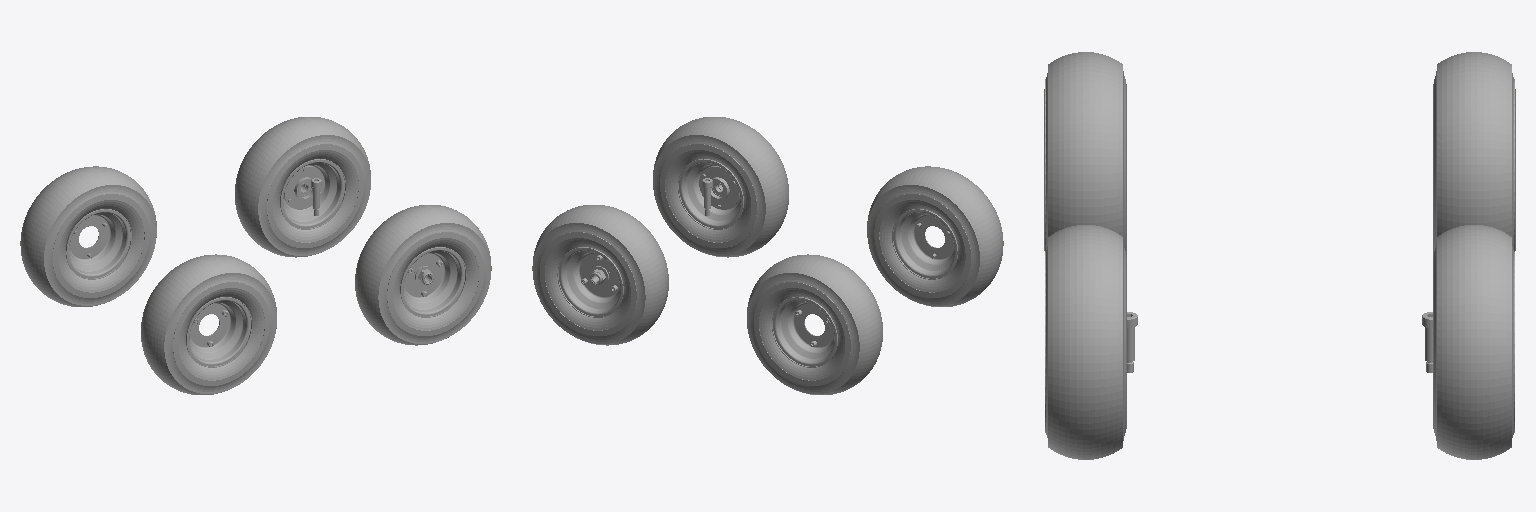
URDF robot description (zebrat):
<?xml version="1.0" encoding="utf-8"?>
<!-- This URDF was automatically created by SolidWorks to URDF Exporter! Originally created by [author] ([email redacted]) 
     Commit Version: 1.6.0-1-g15f4949  Build Version: 1.6.7594.29634
     For more information, please see http://wiki.ros.org/sw_urdf_exporter -->
<robot
  name="zebrat">
  <link
    name="base_link">
    <inertial>
      <origin
        xyz="0.070574 -0.0043486 -0.067094"
        rpy="0 0 0" />
      <mass
        value="35.776" />
      <inertia
        ixx="0.43687"
        ixy="-1.1422E-05"
        ixz="0.00084257"
        iyy="0.44998"
        iyz="4.6829E-06"
        izz="0.69497" />
    </inertial>
    <visual>
      <origin
        xyz="0 0 0"
        rpy="0 0 0" />
      <geometry>
        <mesh
          filename="package://zebrat/meshes/base_link.STL" />
      </geometry>
      <material
        name="">
        <color
          rgba="1 1 1 1" />
      </material>
    </visual>
    <collision>
      <origin
        xyz="0 0 0"
        rpy="0 0 0" />
      <geometry>
        <mesh
          filename="package://zebrat/meshes/base_link.STL" />
      </geometry>
    </collision>
  </link>
  <link
    name="lr_wheel">
    <inertial>
      <origin
        xyz="3.0351E-07 7.0113E-05 5.1237E-07"
        rpy="0 0 0" />
      <mass
        value="1.1552" />
      <inertia
        ixx="0.011871"
        ixy="2.7831E-11"
        ixz="1.6436E-09"
        iyy="0.020263"
        iyz="-8.4684E-12"
        izz="0.011871" />
    </inertial>
    <visual>
      <origin
        xyz="0 0 0"
        rpy="0 0 0" />
      <geometry>
        <mesh
          filename="package://zebrat/meshes/lr_wheel.STL" />
      </geometry>
      <material
        name="">
        <color
          rgba="0.69804 0.69804 0.69804 1" />
      </material>
    </visual>
    <collision>
      <origin
        xyz="0 0 0"
        rpy="0 0 0" />
      <geometry>
        <mesh
          filename="package://zebrat/meshes/lr_wheel.STL" />
      </geometry>
    </collision>
  </link>
  <joint
    name="base2lr"
    type="continuous">
    <origin
      xyz="-0.2709 0.27237 -0.22667"
      rpy="0 0 0" />
    <parent
      link="base_link" />
    <child
      link="lr_wheel" />
    <axis
      xyz="0 -1 0" />
  </joint>
  <link
    name="rr_wheel">
    <inertial>
      <origin
        xyz="-3.0351E-07 -7.0113E-05 5.1237E-07"
        rpy="0 0 0" />
      <mass
        value="1.1552" />
      <inertia
        ixx="0.011871"
        ixy="2.7831E-11"
        ixz="-1.6436E-09"
        iyy="0.020263"
        iyz="8.4684E-12"
        izz="0.011871" />
    </inertial>
    <visual>
      <origin
        xyz="0 0 0"
        rpy="0 0 0" />
      <geometry>
        <mesh
          filename="package://zebrat/meshes/rr_wheel.STL" />
      </geometry>
      <material
        name="">
        <color
          rgba="0.69804 0.69804 0.69804 1" />
      </material>
    </visual>
    <collision>
      <origin
        xyz="0 0 0"
        rpy="0 0 0" />
      <geometry>
        <mesh
          filename="package://zebrat/meshes/rr_wheel.STL" />
      </geometry>
    </collision>
  </link>
  <joint
    name="base2rr"
    type="continuous">
    <origin
      xyz="-0.2709 -0.27237 -0.22667"
      rpy="0 0 0" />
    <parent
      link="base_link" />
    <child
      link="rr_wheel" />
    <axis
      xyz="0 -1 0" />
  </joint>
  <link
    name="lstr_link">
    <inertial>
      <origin
        xyz="5.5511E-17 0 -0.025"
        rpy="0 0 0" />
      <mass
        value="0.14579" />
      <inertia
        ixx="9.1697E-05"
        ixy="3.1179E-23"
        ixz="7.588E-20"
        iyy="9.1697E-05"
        iyz="-1.876E-20"
        izz="6.5014E-06" />
    </inertial>
    <visual>
      <origin
        xyz="0 0 0"
        rpy="0 0 0" />
      <geometry>
        <mesh
          filename="package://zebrat/meshes/lstr_link.STL" />
      </geometry>
      <material
        name="">
        <color
          rgba="0.69804 0.69804 0.69804 1" />
      </material>
    </visual>
    <collision>
      <origin
        xyz="0 0 0"
        rpy="0 0 0" />
      <geometry>
        <mesh
          filename="package://zebrat/meshes/lstr_link.STL" />
      </geometry>
    </collision>
  </link>
  <joint
    name="bast2lstr"
    type="revolute">
    <origin
      xyz="0.2891 0.21125 -0.20084"
      rpy="0 0 0" />
    <parent
      link="base_link" />
    <child
      link="lstr_link" />
    <axis
      xyz="0 0 -1" />
    <limit
      lower="0"
      upper="0"
      effort="0"
      velocity="0" />
  </joint>
  <link
    name="lf_wheel">
    <inertial>
      <origin
        xyz="-3.3596E-07 -0.0053454 -1.922E-07"
        rpy="0 0 0" />
      <mass
        value="1.7625" />
      <inertia
        ixx="0.012197"
        ixy="-4.1791E-12"
        ixz="1.5688E-09"
        iyy="0.020893"
        iyz="2.7769E-11"
        izz="0.012197" />
    </inertial>
    <visual>
      <origin
        xyz="0 0 0"
        rpy="0 0 0" />
      <geometry>
        <mesh
          filename="package://zebrat/meshes/lf_wheel.STL" />
      </geometry>
      <material
        name="">
        <color
          rgba="0.69804 0.69804 0.69804 1" />
      </material>
    </visual>
    <collision>
      <origin
        xyz="0 0 0"
        rpy="0 0 0" />
      <geometry>
        <mesh
          filename="package://zebrat/meshes/lf_wheel.STL" />
      </geometry>
    </collision>
  </link>
  <joint
    name="lstr2lf"
    type="continuous">
    <origin
      xyz="0 0.0655 -0.031746"
      rpy="0 0 0" />
    <parent
      link="lstr_link" />
    <child
      link="lf_wheel" />
    <axis
      xyz="0 1 0" />
  </joint>
  <link
    name="rstr_link">
    <inertial>
      <origin
        xyz="-1.1102E-16 -2.7756E-17 -0.025"
        rpy="0 0 0" />
      <mass
        value="0.14579" />
      <inertia
        ixx="9.1697E-05"
        ixy="3.1694E-23"
        ixz="-1.0543E-19"
        iyy="9.1697E-05"
        iyz="1.8742E-20"
        izz="6.5014E-06" />
    </inertial>
    <visual>
      <origin
        xyz="0 0 0"
        rpy="0 0 0" />
      <geometry>
        <mesh
          filename="package://zebrat/meshes/rstr_link.STL" />
      </geometry>
      <material
        name="">
        <color
          rgba="0.69804 0.69804 0.69804 1" />
      </material>
    </visual>
    <collision>
      <origin
        xyz="0 0 0"
        rpy="0 0 0" />
      <geometry>
        <mesh
          filename="package://zebrat/meshes/rstr_link.STL" />
      </geometry>
    </collision>
  </link>
  <joint
    name="base2rstr"
    type="revolute">
    <origin
      xyz="0.2891 -0.21125 -0.20084"
      rpy="0 0 0" />
    <parent
      link="base_link" />
    <child
      link="rstr_link" />
    <axis
      xyz="0 0 -1" />
    <limit
      lower="0"
      upper="0"
      effort="0"
      velocity="0" />
  </joint>
  <link
    name="rf_wheel">
    <inertial>
      <origin
        xyz="-3.3596E-07 0.0053454 1.922E-07"
        rpy="0 0 0" />
      <mass
        value="1.7625" />
      <inertia
        ixx="0.012197"
        ixy="3.9087E-12"
        ixz="-1.5688E-09"
        iyy="0.020893"
        iyz="2.7769E-11"
        izz="0.012197" />
    </inertial>
    <visual>
      <origin
        xyz="0 0 0"
        rpy="0 0 0" />
      <geometry>
        <mesh
          filename="package://zebrat/meshes/rf_wheel.STL" />
      </geometry>
      <material
        name="">
        <color
          rgba="0.69804 0.69804 0.69804 1" />
      </material>
    </visual>
    <collision>
      <origin
        xyz="0 0 0"
        rpy="0 0 0" />
      <geometry>
        <mesh
          filename="package://zebrat/meshes/rf_wheel.STL" />
      </geometry>
    </collision>
  </link>
  <joint
    name="rstr2rf"
    type="continuous">
    <origin
      xyz="0 -0.0655 -0.031746"
      rpy="0 0 0" />
    <parent
      link="rstr_link" />
    <child
      link="rf_wheel" />
    <axis
      xyz="0 -1 0" />
  </joint>
</robot>

--- What the picture shows (computed from the rendered views, not written in the file) ---
Views: 3 orthographic renders of the robot side by side, from view 1: azimuth 30°, elevation 25°; view 2: azimuth 150°, elevation 25°; view 3: azimuth 270°, elevation 25°.
Model zebrat with 7 links and 6 joints (2 revolute, 4 continuous), rooted at base_link, posed every joint at zero.
Visible links, largest first — view 1: rf_wheel, lf_wheel, lr_wheel, rr_wheel; view 2: lf_wheel, rf_wheel, rr_wheel, lr_wheel; view 3: lf_wheel, rf_wheel, lr_wheel, rr_wheel.
Link boxes in pixels (x1,y1,x2,y2): rf_wheel: (355,205,491,345); lf_wheel: (235,117,370,257); lr_wheel: (20,166,156,306); rr_wheel: (141,254,276,394); lf_wheel: (532,205,668,345); rf_wheel: (653,117,788,257); rr_wheel: (867,166,1003,306); lr_wheel: (747,254,882,394); lf_wheel: (1433,225,1514,459); rf_wheel: (1045,225,1126,459); lr_wheel: (1433,52,1515,254); rr_wheel: (1044,52,1126,254).
Bounding box of the posed robot: 0.8896 × 0.6602 × 0.3357 m (x, y, z).
Meshes: 7 distinct files referenced, 6 mesh visuals loaded (6 binary STL); not drawn: 1 (reference not matched to a file when rendering).
